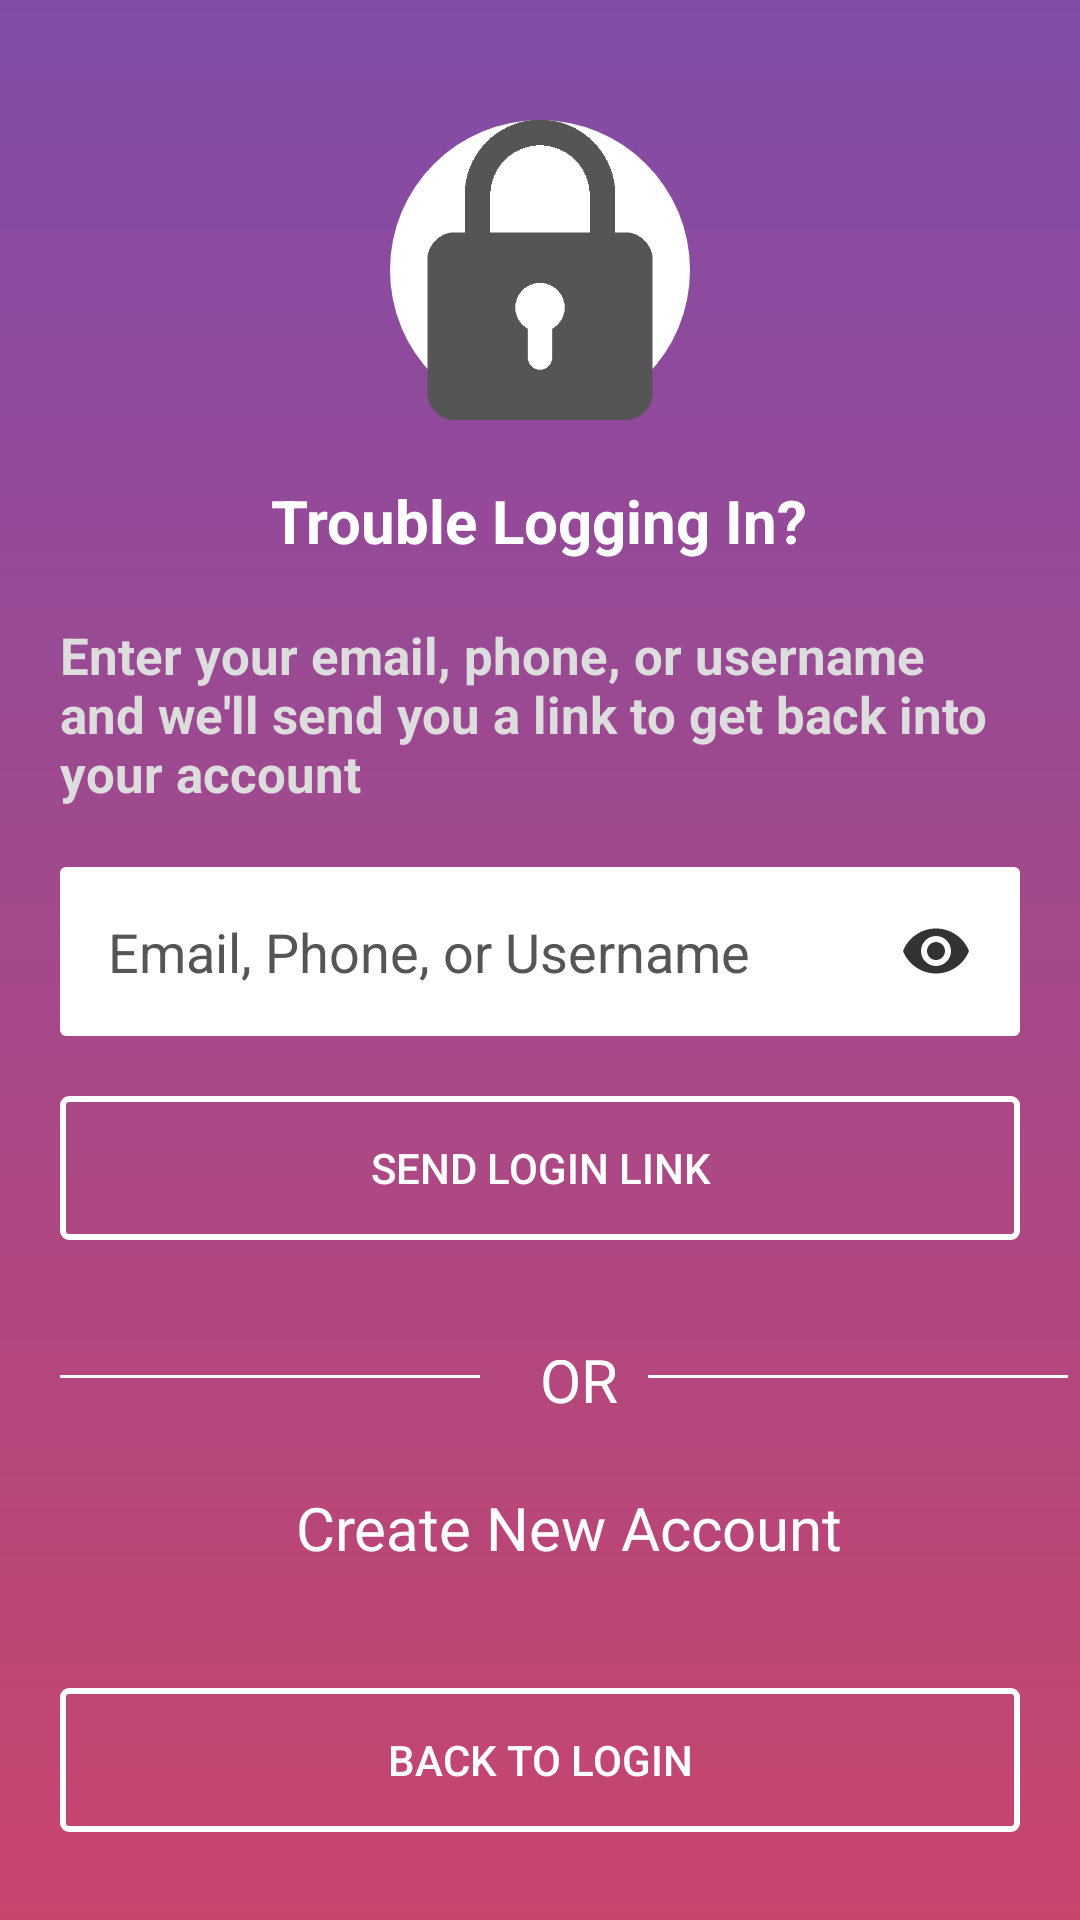

Point at icon controls on the screen. Image size 1080 × 1920, points as (x,y).
padlock: (540,270)
